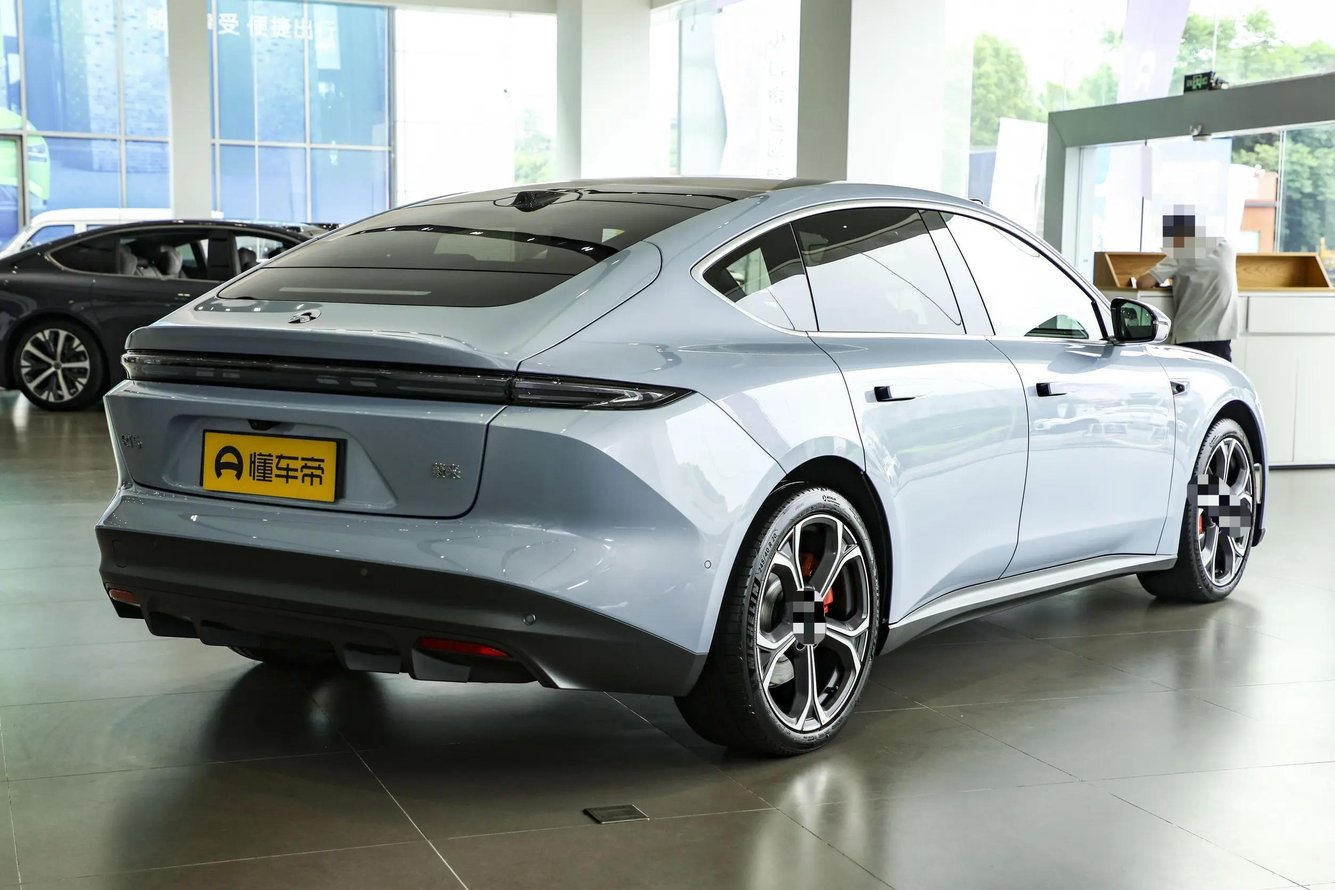NIO: (286, 306, 322, 325)
